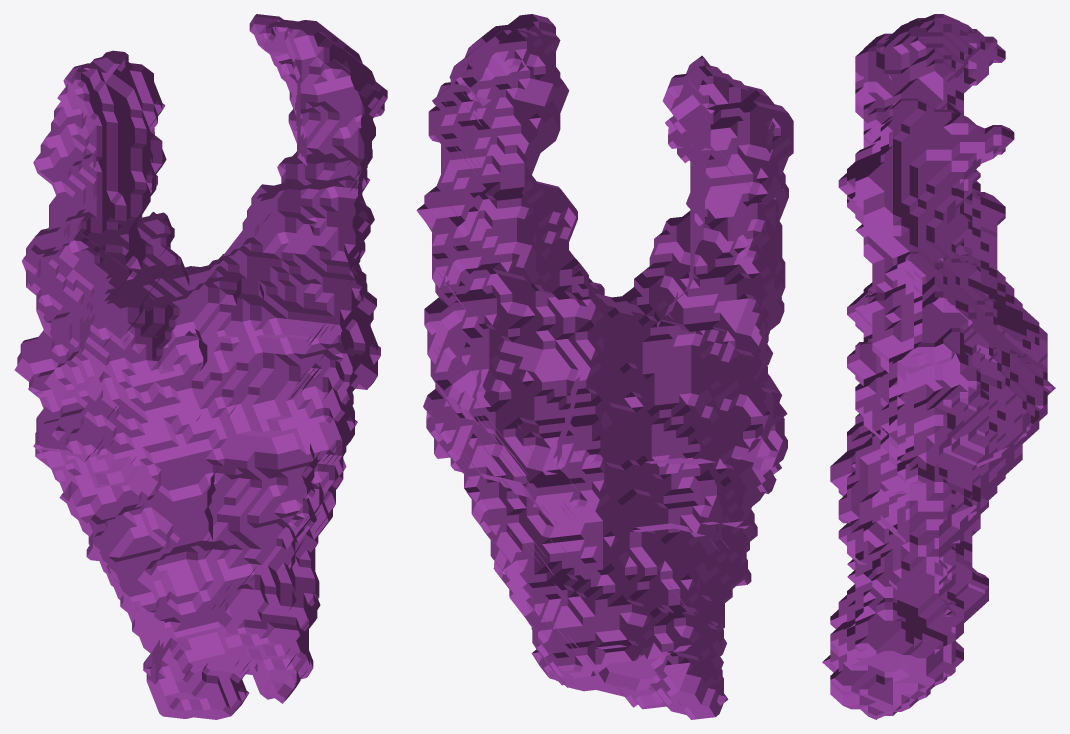
File: region_0198_Xm__vagal_motor_nucleus_.glb
The picture shows the model from 3 angles, left to right: view 1: azimuth 30°, elevation 25°; view 2: azimuth 150°, elevation 25°; view 3: azimuth 270°, elevation 25°; orthographic projection. The views are drawn at different scales.
Parts seen in each view (by area): view 1: world; view 2: world; view 3: world.
Part boxes in pixels (box(x1,y1,x2,y2)): world: box(14, 14, 387, 719); world: box(416, 14, 793, 719); world: box(822, 14, 1055, 719).
Size of the model in its own units: 0.384 by 0.664 by 0.224.
